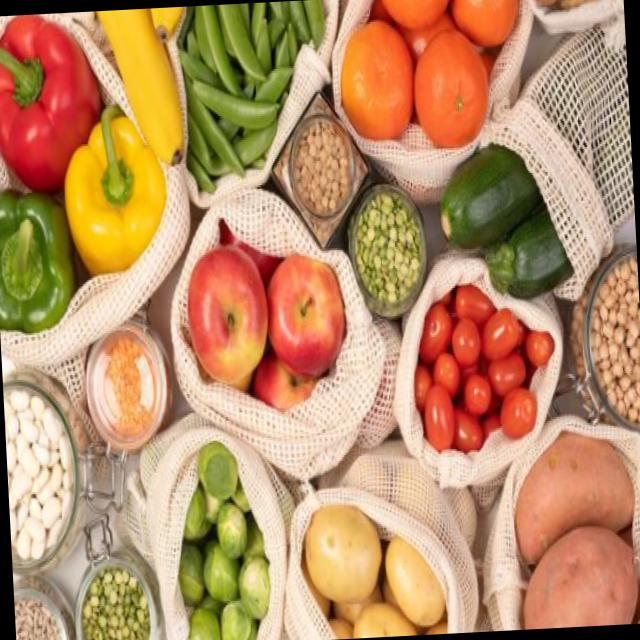paper: (506, 441, 640, 630), (418, 287, 554, 458), (444, 134, 580, 300), (193, 1, 314, 174), (299, 499, 433, 640), (169, 442, 264, 640), (90, 6, 205, 166), (67, 120, 183, 272), (0, 12, 98, 185), (278, 96, 376, 240), (184, 238, 273, 392), (577, 234, 640, 442), (4, 398, 84, 560), (0, 181, 80, 335), (342, 173, 422, 326), (260, 236, 351, 370), (338, 8, 422, 150), (402, 20, 488, 150), (80, 585, 146, 640), (454, 0, 525, 46), (370, 0, 460, 35), (15, 610, 61, 640)
